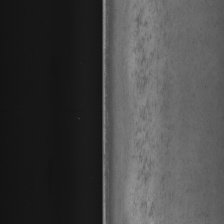silk_spot: (127, 10, 167, 224)
